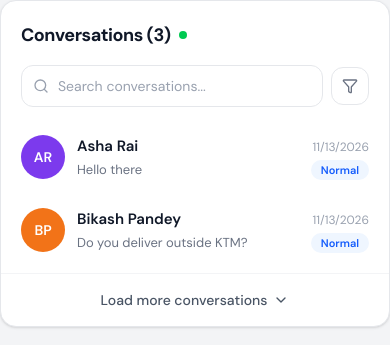
Scenario: ChatList redesign (Batch 3c) › filters rows by the search input
In the field with placeholder "Search conversations...": [172, 86] box [21,65,323,107], type "bikash"
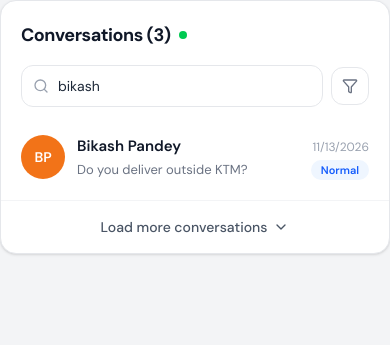
Check: the text "Bikash Pandey" is shown, box [77,135,181,158]
Check: the text "Asha Rai" is gone
